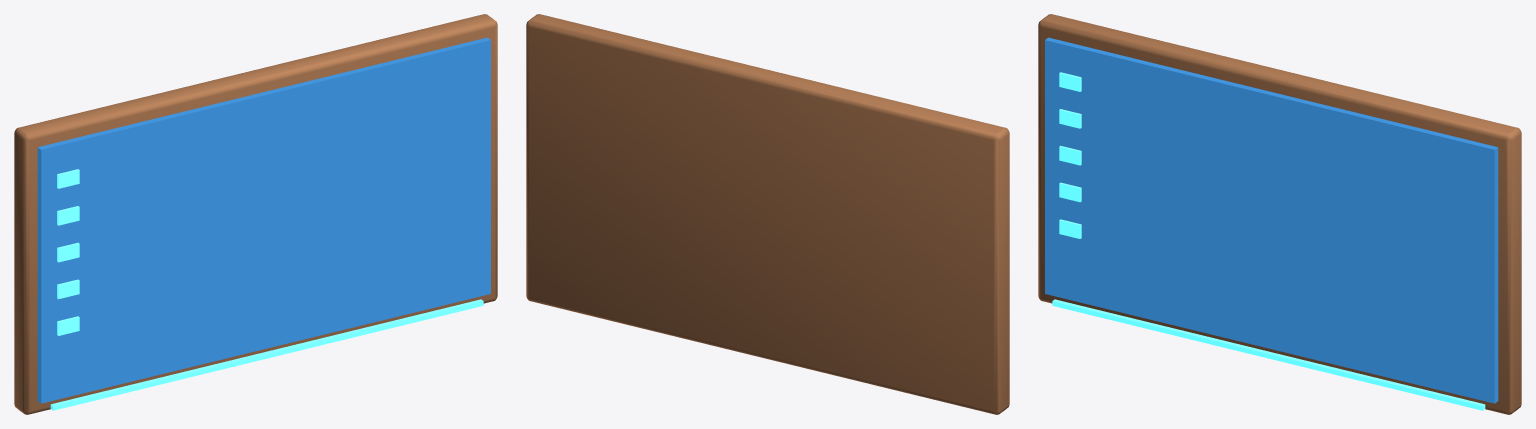
The model's file is media_screen.glb.
3 renders of one model, left to right at view 1: azimuth 30°, elevation 25°; view 2: azimuth 150°, elevation 25°; view 3: azimuth 330°, elevation 25°, orthographic.
Parts seen in each view (by area): view 1: root_screen, root_copper, root_blue; view 2: root_copper; view 3: root_screen, root_copper, root_blue.
Part boxes in pixels (box(x1,y1,x2,y2)): root_screen: box(37, 37, 490, 403); root_copper: box(14, 14, 497, 414); root_blue: box(50, 169, 483, 410); root_copper: box(526, 14, 1009, 414); root_screen: box(1045, 37, 1498, 403); root_copper: box(1038, 14, 1521, 414); root_blue: box(1052, 72, 1485, 410).
Bounding box in the file's own units: 2.7 × 1.53 × 0.1875.
